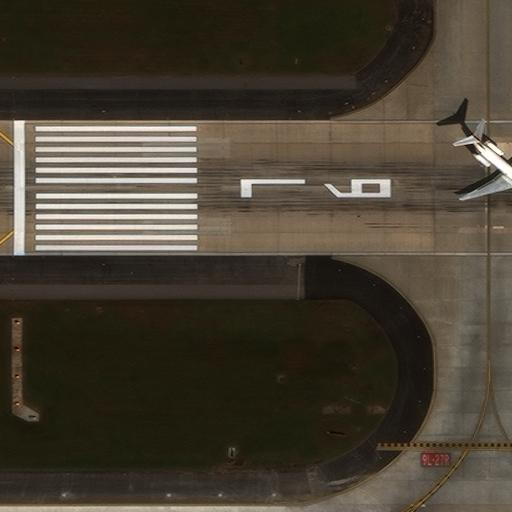Medium Civil Transport: (462, 134, 512, 211)
